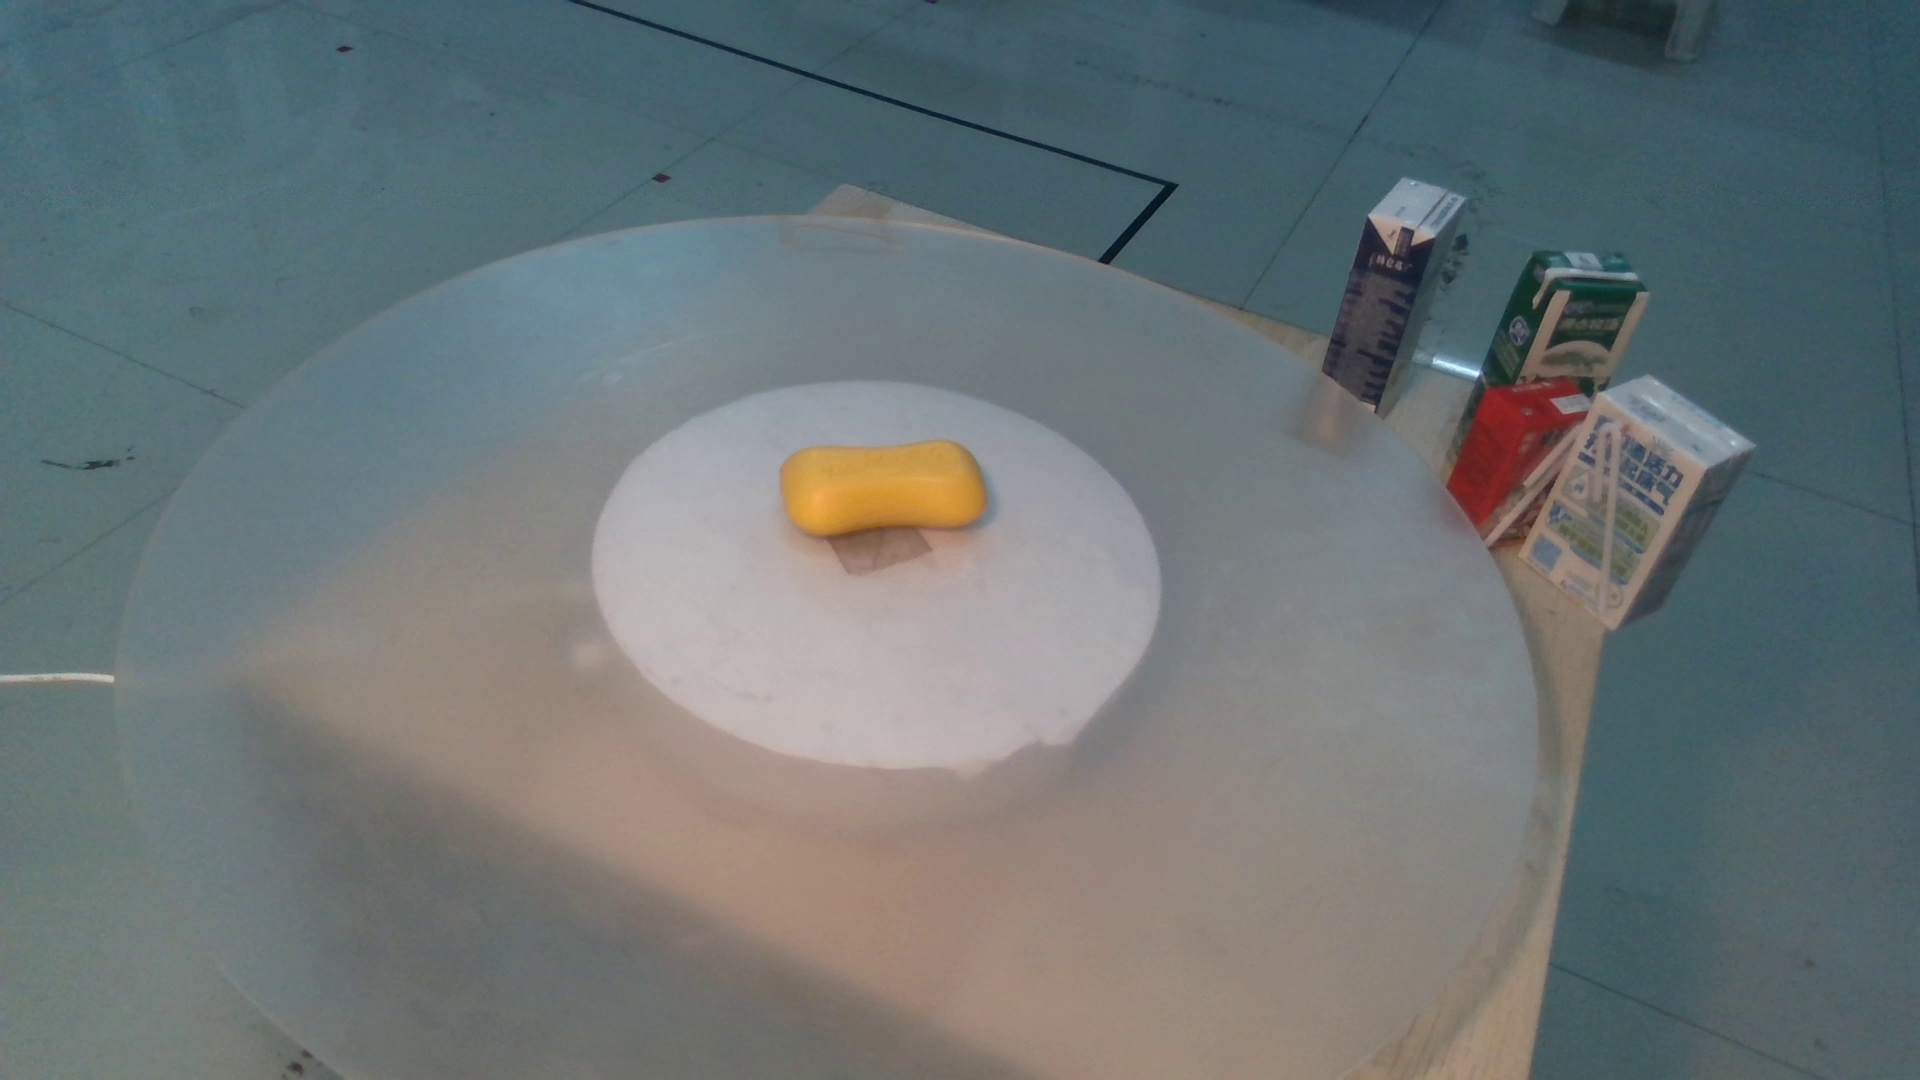CA003_1: (757, 407, 1025, 566)
